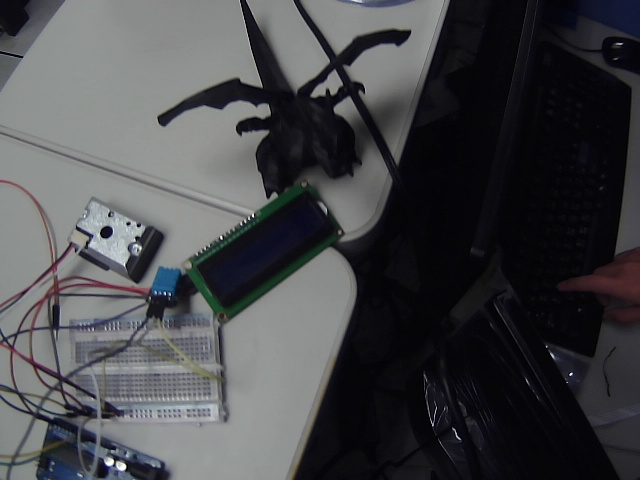charizard: (150, 1, 416, 196)
